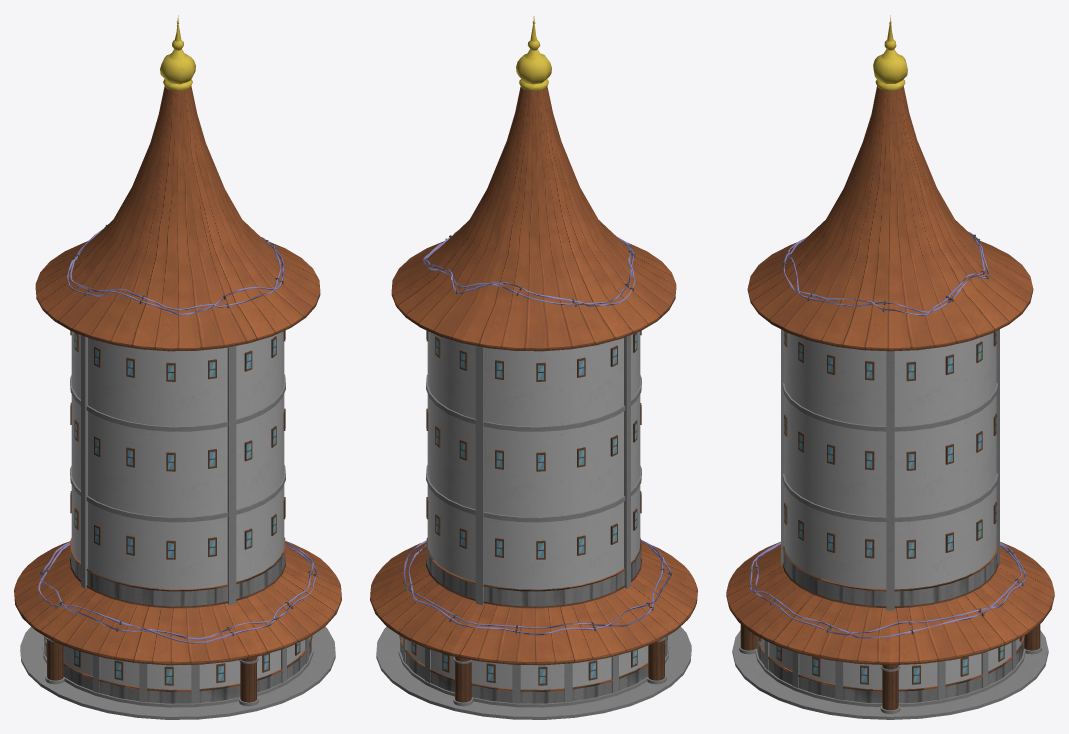
Rendered from SM_ENV_LKNVLD_CommonBuilding_TowerA.FBX.
3 views of the same model, side by side, from view 1: azimuth 30°, elevation 25°; view 2: azimuth 150°, elevation 25°; view 3: azimuth 270°, elevation 25° (orthographic).
Parts seen in each view (by area): view 1: SM_ENV_LKNVLD_CommonBuilding_TowerA; view 2: SM_ENV_LKNVLD_CommonBuilding_TowerA; view 3: SM_ENV_LKNVLD_CommonBuilding_TowerA.
Boxes of the visible parts, <box> form: SM_ENV_LKNVLD_CommonBuilding_TowerA: <box>14,15,341,719</box>; SM_ENV_LKNVLD_CommonBuilding_TowerA: <box>370,16,697,719</box>; SM_ENV_LKNVLD_CommonBuilding_TowerA: <box>726,15,1054,719</box>.
Size of the model in its own units: 1973 by 4236 by 1973.
